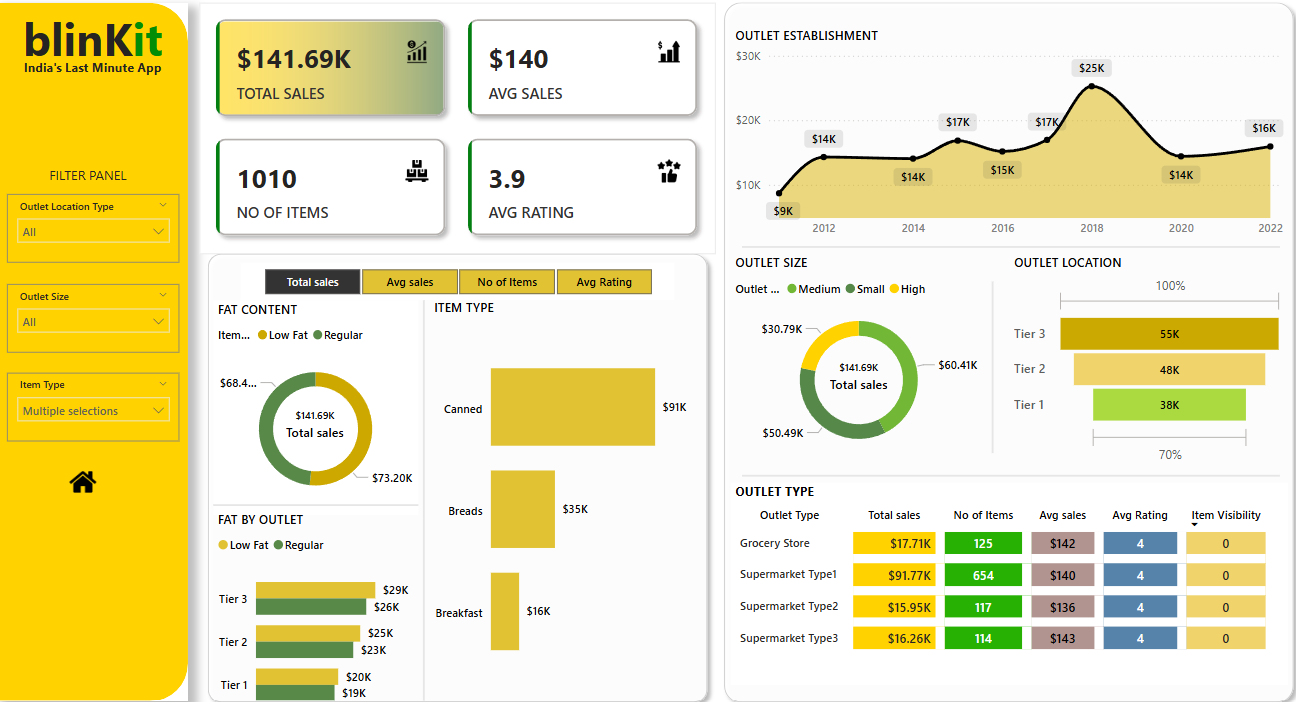

The page's visual inventory and layout, read from the dashboard file:
{"tool":"powerbi","page":{"name":"Page 1","canvas":[1400,800],"ordinal":0},"visuals":[{"type":"shape","box":[0,25.5,205.1,749.3],"z":0},{"type":"textbox","box":[0,25.5,205.1,73.7],"z":1000},{"type":"textbox","box":[0,80.4,205.1,37.5],"z":2000},{"type":"cardVisual","fields":{"Data":["BlinkIT Grocery Data.Total sales","BlinkIT Grocery Data.Avg sales","BlinkIT Grocery Data.No of Items","BlinkIT Grocery Data.Avg Rating"]},"box":[217.2,25.5,553.6,269.4],"z":3000},{"type":"shape","box":[217.2,285.5,553.6,500],"z":4000},{"type":"donutChart","title":"FAT CONTENT","fields":{"Y":["BlinkIT Grocery Data.Total sales"],"Category":["BlinkIT Grocery Data.Item Fat Content"]},"box":[231.9,344.5,219.8,230.6],"z":5000},{"type":"slicer","fields":{"Values":["Metrics.Metrics"]},"box":[261.4,304.3,465.1,40.2],"z":6000},{"type":"cardVisual","fields":{"Data":["BlinkIT Grocery Data.Total sales"]},"box":[286.9,443.7,108.6,67],"z":7000},{"type":"clusteredBarChart","title":"FAT BY OUTLET","fields":{"Y":["BlinkIT Grocery Data.Total sales"],"Category":["BlinkIT Grocery Data.Outlet Location Type"],"Series":["BlinkIT Grocery Data.Item Fat Content"]},"box":[231.9,569.7,219.8,230.6],"z":8000},{"type":"shape","box":[231.9,559,219.8,10.7],"z":9000},{"type":"shape","box":[451.7,344.5,12.1,430.3],"z":10000},{"type":"barChart","title":"ITEM TYPE","fields":{"Y":["BlinkIT Grocery Data.Total sales"],"Category":["BlinkIT Grocery Data.Item Type"]},"box":[463.8,343.2,292.2,430.3],"z":11000},{"type":"shape","box":[770.8,16.1,628.7,769.4],"z":12000},{"type":"lineChart","title":"OUTLET ESTABLISHMENT","fields":{"Category":["BlinkIT Grocery Data.Outlet Establishment Year"],"Y":["BlinkIT Grocery Data.Total sales"]},"box":[786.9,50.9,597.9,234.6],"z":13000},{"type":"shape","box":[798.9,280.2,576.4,14.7],"z":14000},{"type":"donutChart","title":"OUTLET SIZE","fields":{"Y":["BlinkIT Grocery Data.Total sales"],"Category":["BlinkIT Grocery Data.Outlet Size"]},"box":[786.9,294.9,275,225],"z":15000},{"type":"cardVisual","fields":{"Data":["BlinkIT Grocery Data.Total sales"]},"box":[870,392.8,108.6,67],"z":16000},{"type":"shape","box":[1061.7,324.4,12.1,185],"z":17000},{"type":"funnel","title":"OUTLET LOCATION","fields":{"Y":["Sum(BlinkIT Grocery Data.Sales)"],"Category":["BlinkIT Grocery Data.Outlet Location Type"]},"box":[1085.8,294.9,298.9,230],"z":18000},{"type":"shape","box":[798.9,525.5,576.4,14.7],"z":19000},{"type":"pivotTable","title":"OUTLET TYPE","fields":{"Rows":["BlinkIT Grocery Data.Outlet Type"],"Values":["BlinkIT Grocery Data.Total sales","BlinkIT Grocery Data.No of Items","BlinkIT Grocery Data.Avg sales","BlinkIT Grocery Data.Avg Rating","Avg(BlinkIT Grocery Data.Item Visibility)"]},"box":[786.9,540.2,597.9,217.2],"z":20000},{"type":"slicer","fields":{"Values":["BlinkIT Grocery Data.Outlet Location Type"]},"box":[10.7,230.6,185,73.7],"z":21000},{"type":"slicer","fields":{"Values":["BlinkIT Grocery Data.Outlet Size"]},"box":[10.7,327.1,185,73.7],"z":22000},{"type":"slicer","fields":{"Values":["BlinkIT Grocery Data.Item Type"]},"box":[10.7,422.3,185,73.7],"z":23000},{"type":"textbox","box":[50.9,195.7,107.2,45.6],"z":24000},{"type":"image","box":[69.7,520.1,44.2,38.9],"z":26000}]}

Visuals, with their boxes on the page's 1400x800 design canvas (x1, y1, x2, y2). These are canvas units, not pixel positions in the 1296x702 screenshot, which may show the page scaled, cropped or inside an application window:
shape: {"x1": 0, "y1": 26, "x2": 205, "y2": 775}
textbox: {"x1": 0, "y1": 26, "x2": 205, "y2": 99}
textbox: {"x1": 0, "y1": 80, "x2": 205, "y2": 118}
cardVisual - BlinkIT Grocery Data.Total sales x BlinkIT Grocery Data.Avg sales: {"x1": 217, "y1": 26, "x2": 771, "y2": 295}
shape: {"x1": 217, "y1": 286, "x2": 771, "y2": 786}
"FAT CONTENT" donutChart: {"x1": 232, "y1": 344, "x2": 452, "y2": 575}
slicer - Metrics.Metrics: {"x1": 261, "y1": 304, "x2": 726, "y2": 344}
cardVisual - BlinkIT Grocery Data.Total sales: {"x1": 287, "y1": 444, "x2": 396, "y2": 511}
"FAT BY OUTLET" clusteredBarChart: {"x1": 232, "y1": 570, "x2": 452, "y2": 800}
shape: {"x1": 232, "y1": 559, "x2": 452, "y2": 570}
shape: {"x1": 452, "y1": 344, "x2": 464, "y2": 775}
"ITEM TYPE" barChart: {"x1": 464, "y1": 343, "x2": 756, "y2": 774}
shape: {"x1": 771, "y1": 16, "x2": 1400, "y2": 786}
"OUTLET ESTABLISHMENT" lineChart: {"x1": 787, "y1": 51, "x2": 1385, "y2": 286}
shape: {"x1": 799, "y1": 280, "x2": 1375, "y2": 295}
"OUTLET SIZE" donutChart: {"x1": 787, "y1": 295, "x2": 1062, "y2": 520}
cardVisual - BlinkIT Grocery Data.Total sales: {"x1": 870, "y1": 393, "x2": 979, "y2": 460}
shape: {"x1": 1062, "y1": 324, "x2": 1074, "y2": 509}
"OUTLET LOCATION" funnel: {"x1": 1086, "y1": 295, "x2": 1385, "y2": 525}
shape: {"x1": 799, "y1": 526, "x2": 1375, "y2": 540}
"OUTLET TYPE" pivotTable: {"x1": 787, "y1": 540, "x2": 1385, "y2": 757}
slicer - BlinkIT Grocery Data.Outlet Location Type: {"x1": 11, "y1": 231, "x2": 196, "y2": 304}
slicer - BlinkIT Grocery Data.Outlet Size: {"x1": 11, "y1": 327, "x2": 196, "y2": 401}
slicer - BlinkIT Grocery Data.Item Type: {"x1": 11, "y1": 422, "x2": 196, "y2": 496}
textbox: {"x1": 51, "y1": 196, "x2": 158, "y2": 241}
image: {"x1": 70, "y1": 520, "x2": 114, "y2": 559}
